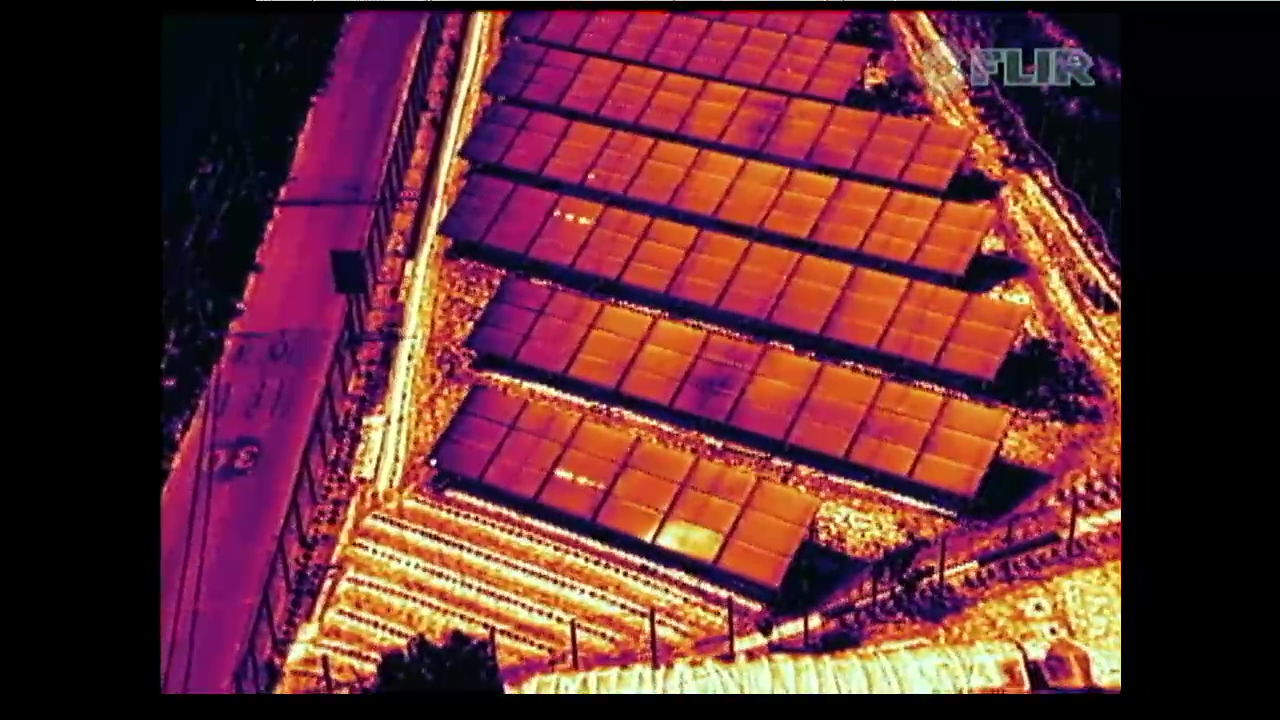hotspot: (530, 415, 638, 524), (422, 379, 524, 487), (523, 195, 606, 270), (588, 127, 652, 194)
